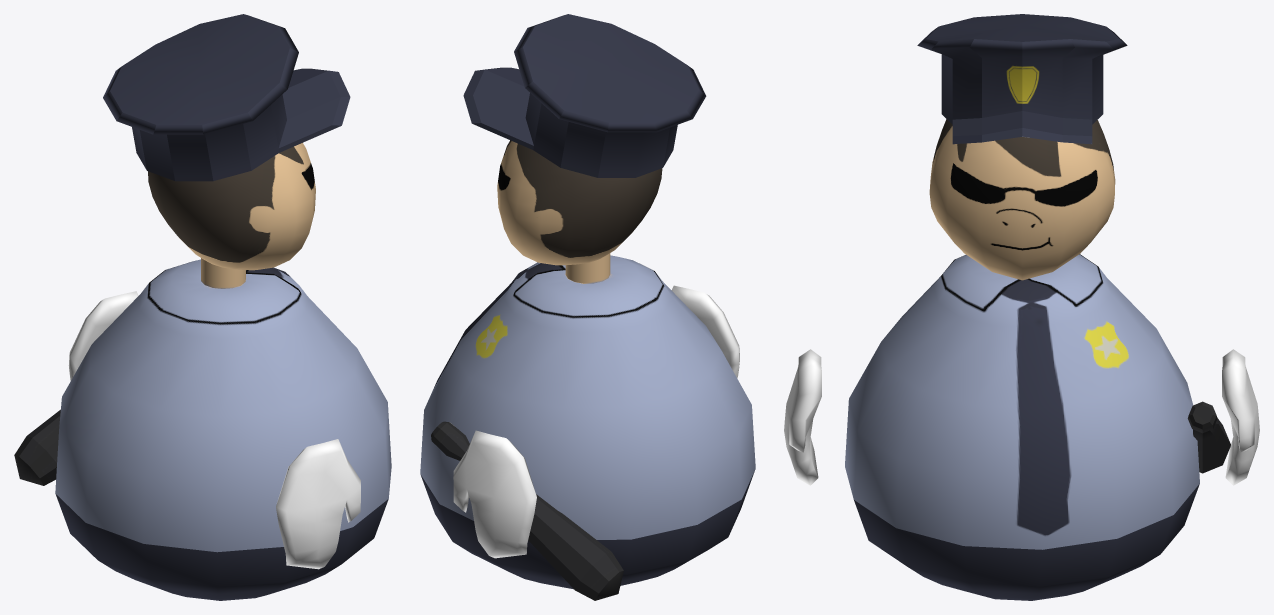
The model's file is policeman.fbx.
3 views of the same model, side by side, from view 1: azimuth 30°, elevation 25°; view 2: azimuth 150°, elevation 25°; view 3: azimuth 270°, elevation 25° (orthographic). The views are drawn at different scales.
Visible parts, largest first — view 1: polySurface4; view 2: polySurface4; view 3: polySurface4.
Part boxes in pixels (<box>): polySurface4: <box>14,14,391,600</box>; polySurface4: <box>420,14,755,600</box>; polySurface4: <box>784,14,1259,600</box>.
Size of the model in its own units: 101 by 175 by 135.
